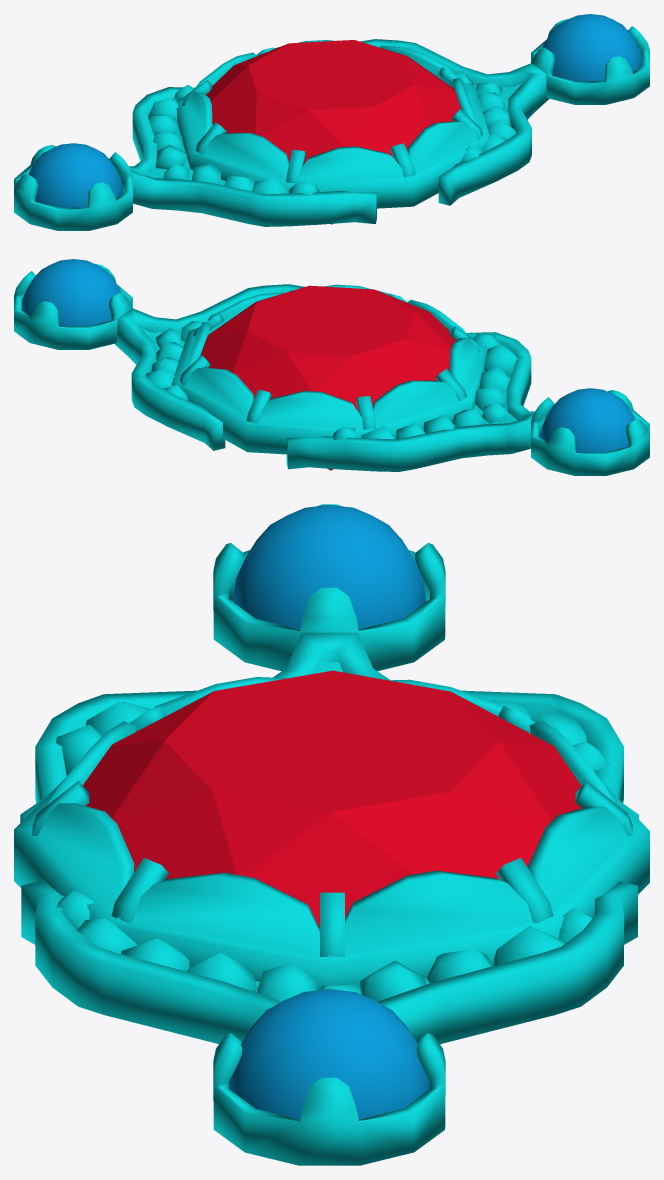
Rendered from gem-ring.glb.
3 views of the same model, one above another, from view 1: azimuth 30°, elevation 25°; view 2: azimuth 150°, elevation 25°; view 3: azimuth 270°, elevation 25° (orthographic). The views are drawn at different scales.
Visible parts, largest first — view 1: Gold, Gem, Pearls; view 2: Gold, Gem, Pearls; view 3: Gold, Gem, Pearls.
Boxes of the visible parts, x1,y1,x2,y2 form: Gold: (14,19,649,230); Gem: (206,40,461,224); Pearls: (29,14,642,207); Gold: (14,264,649,475); Gem: (200,285,456,470); Pearls: (21,259,634,452); Gold: (14,504,649,1165); Gem: (83,670,581,927); Pearls: (228,505,429,1119).
Size of the model in its own units: 2.49 by 0.575 by 1.14.
